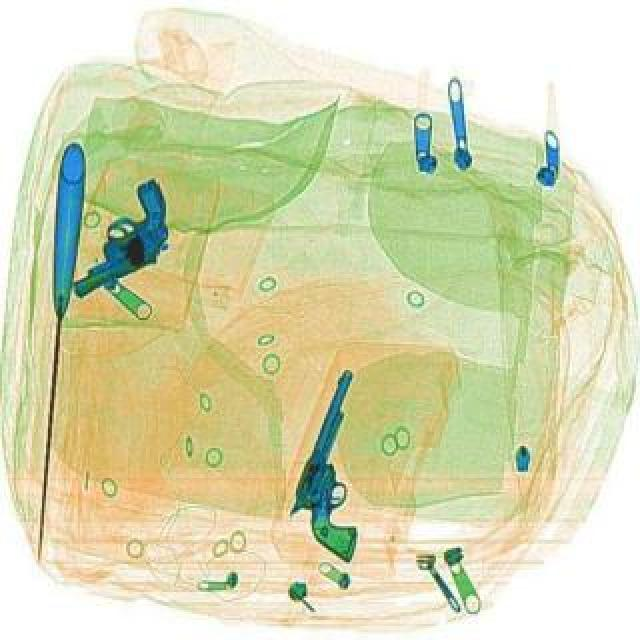gun: (272, 364, 424, 560), (40, 176, 192, 298)
knife: (22, 140, 86, 560)
